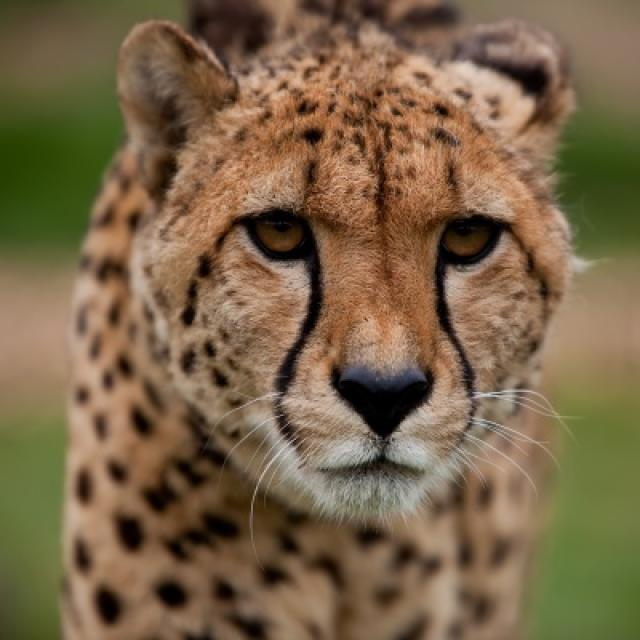Cheetah: (62, 0, 573, 638)
